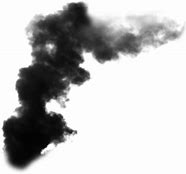smoke: (4, 1, 120, 167)
